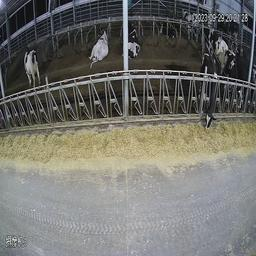cow: (201, 51, 219, 134), (92, 24, 110, 64), (25, 47, 39, 90), (128, 23, 140, 59), (162, 18, 177, 39)
